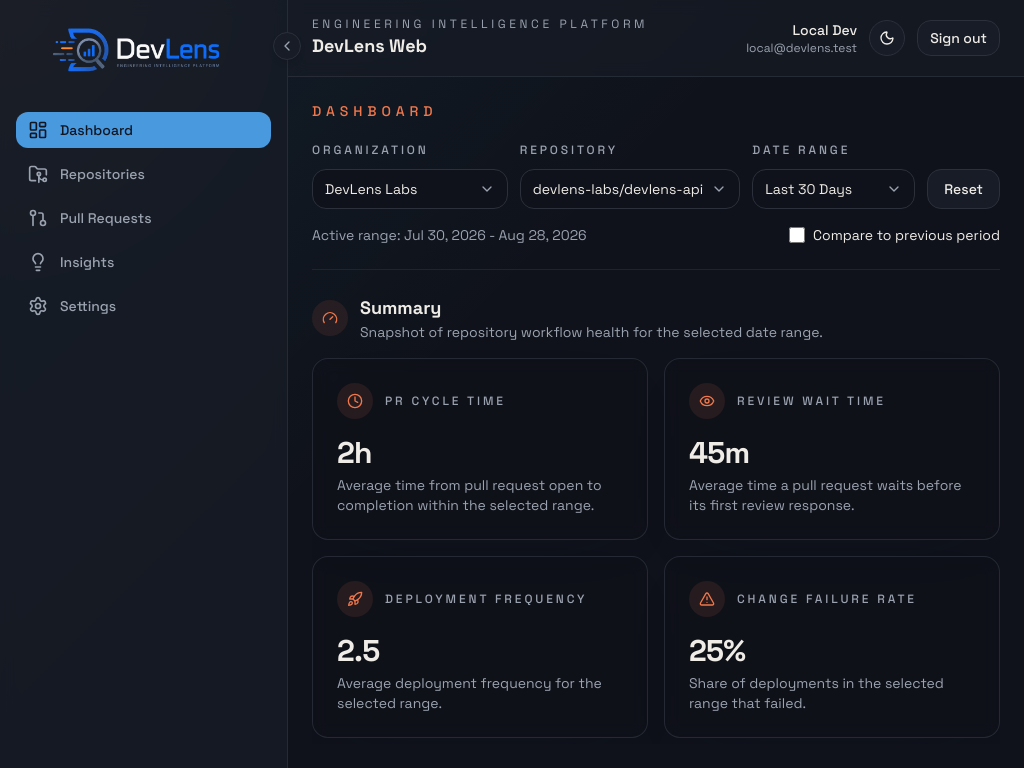
Test: dashboard route › filters inactive repositories out of the dashboard selector even if stale data includes them
Expected: the text "2h" is shown, top-left (337, 433), bottom-right (372, 472)
Click the dropdown named "Repository". click: click(630, 189)
box: top-left (520, 169), bottom-right (740, 209)
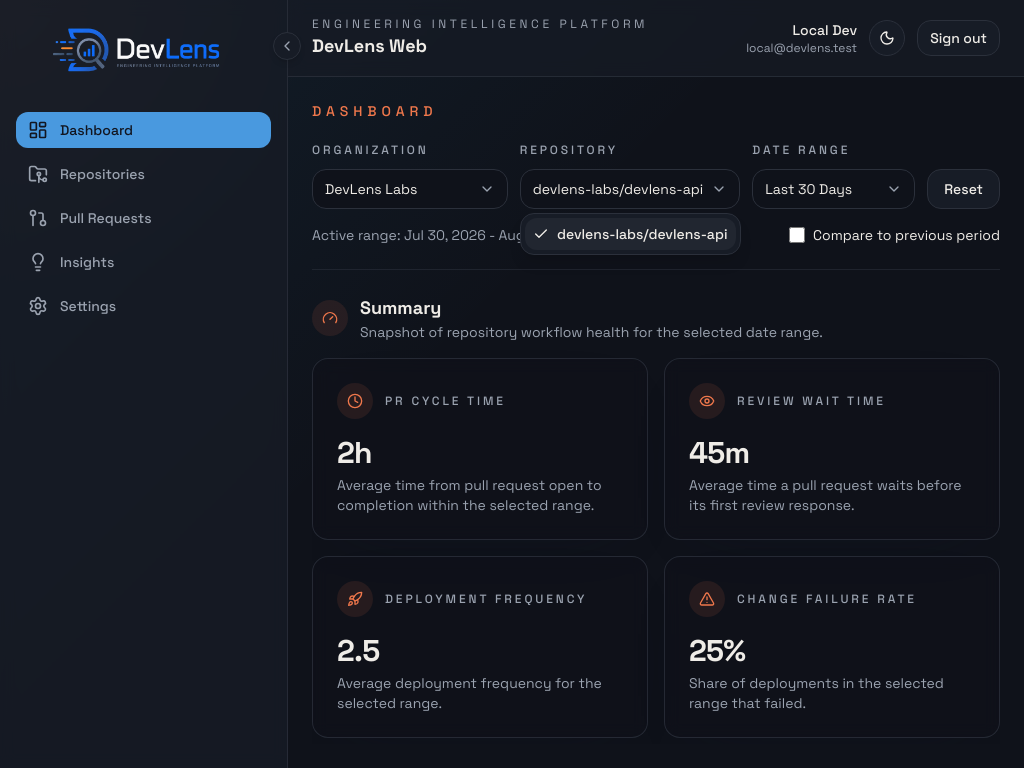
Result: the option "devlens-labs/devlens-api" is shown at top-left (525, 218), bottom-right (736, 250)
